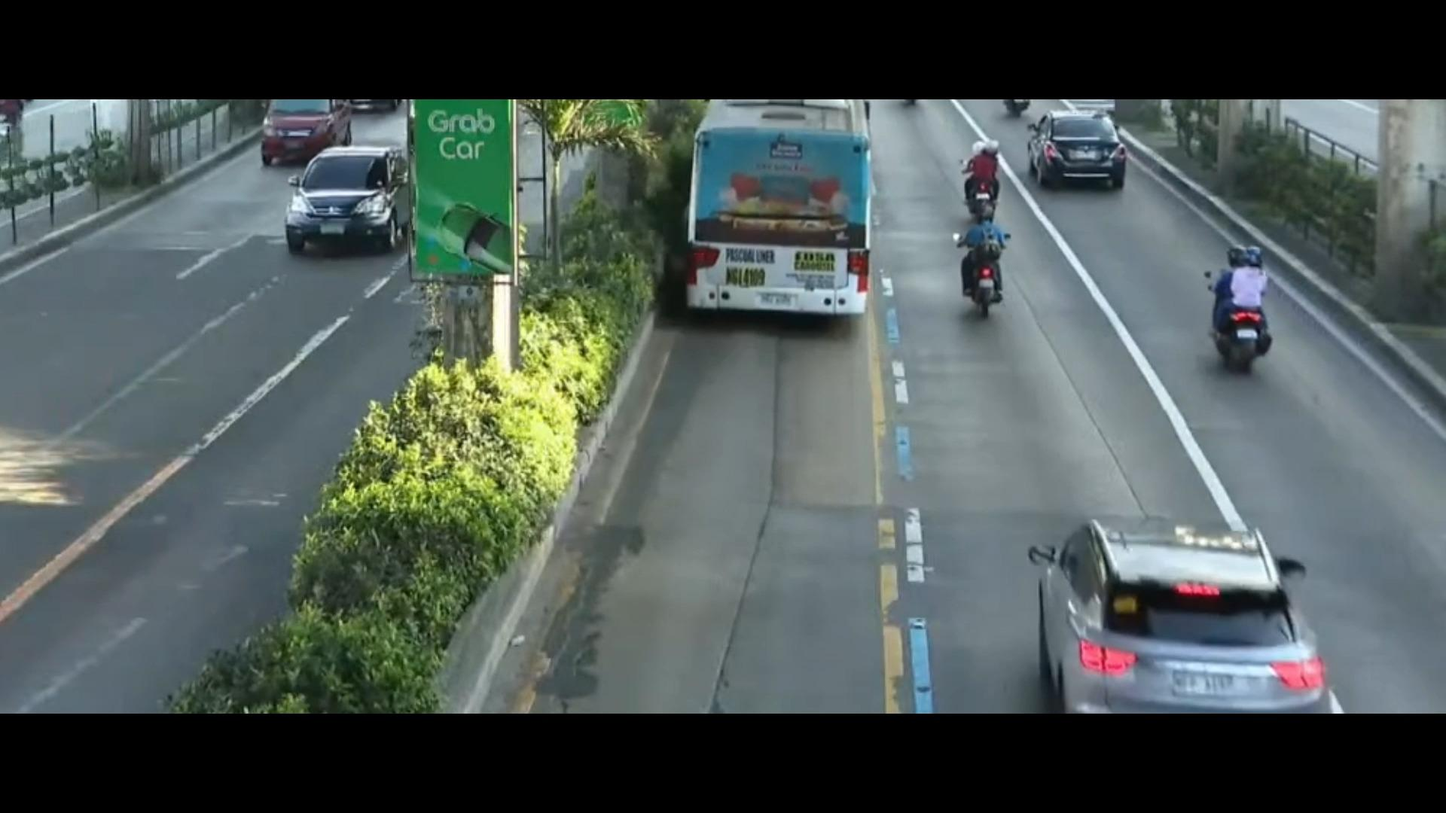Bus: (670, 100, 900, 356)
Motorcycle: (1184, 237, 1294, 400), (962, 194, 1021, 319), (955, 145, 1010, 223)
SUV: (1015, 503, 1404, 715), (283, 130, 415, 287), (238, 98, 357, 162)
Sedan: (1027, 98, 1155, 209)
